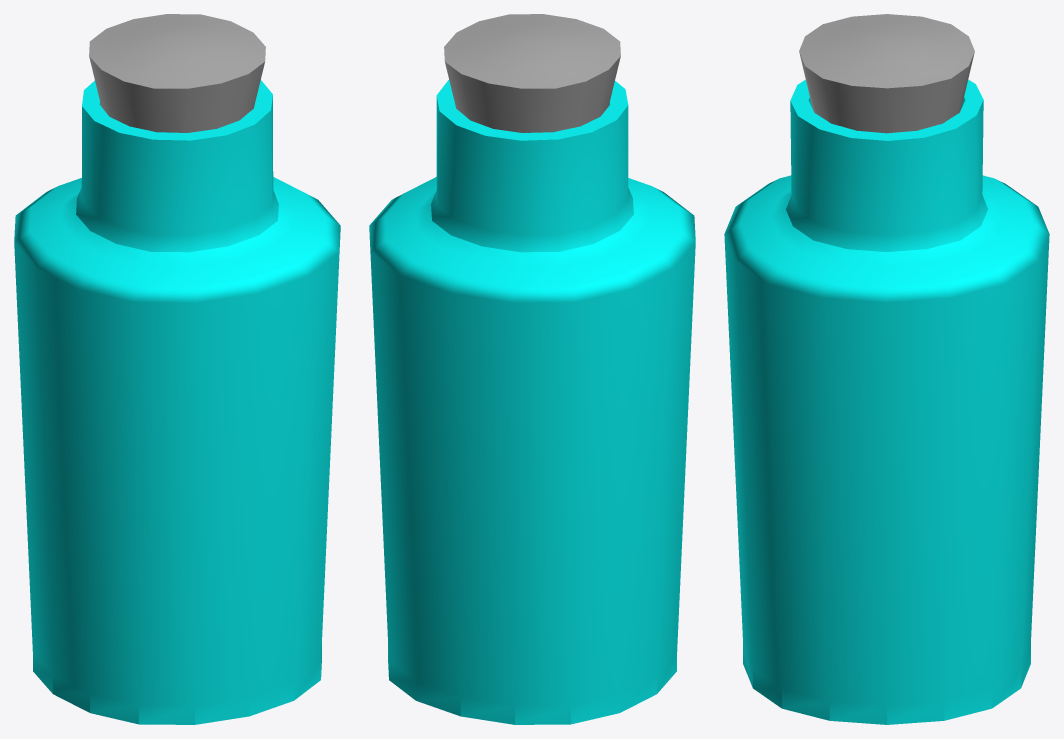
File: Potion5.fbx
3 views of the same model, side by side, from view 1: azimuth 30°, elevation 25°; view 2: azimuth 150°, elevation 25°; view 3: azimuth 270°, elevation 25° (orthographic).
Visible parts, largest first — view 1: potionbottle5, cork2; view 2: potionbottle5, cork2; view 3: potionbottle5, cork2.
Part boxes in pixels (left/top/right/bottom): potionbottle5: left=14, top=80, right=340, bottom=724; cork2: left=89, top=14, right=265, bottom=132; potionbottle5: left=369, top=80, right=695, bottom=724; cork2: left=444, top=14, right=620, bottom=132; potionbottle5: left=724, top=79, right=1049, bottom=724; cork2: left=799, top=14, right=974, bottom=133.
Bounding box in the file's own units: 6.11 × 12.91 × 6.1.
